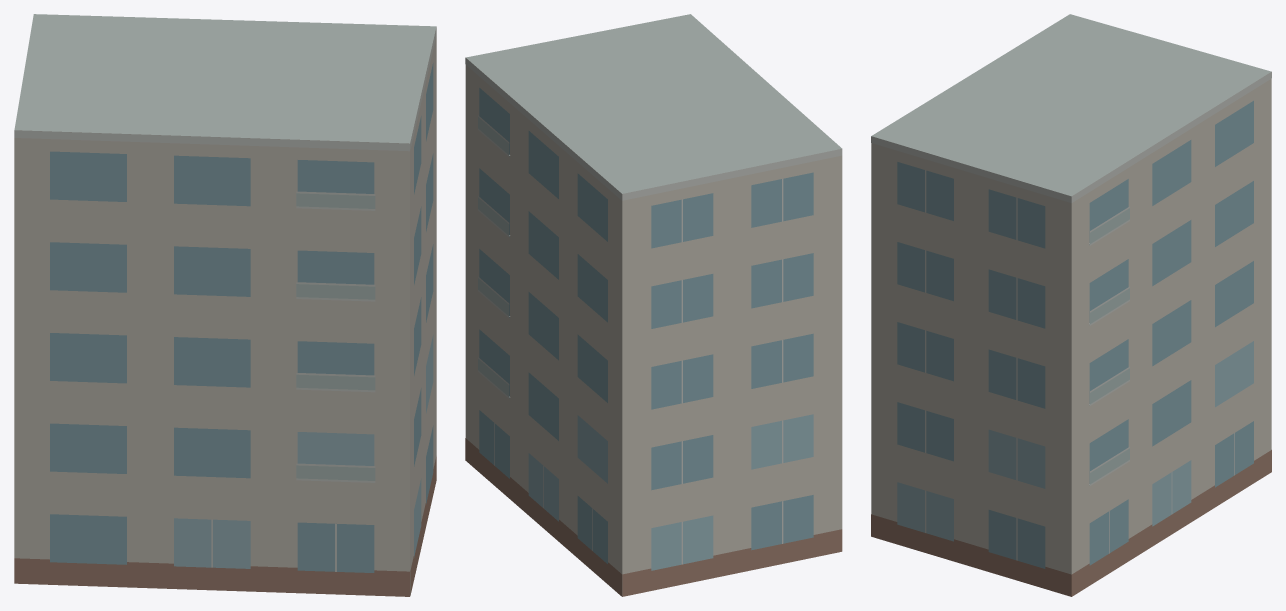
Rendered from survey-upis-32780098.glb.
3 views of the same model, side by side, from view 1: azimuth 30°, elevation 25°; view 2: azimuth 150°, elevation 25°; view 3: azimuth 270°, elevation 25° (orthographic). The views are drawn at different scales.
Parts seen in each view (by area): view 1: survey-upis-32780098.tmp; view 2: survey-upis-32780098.tmp; view 3: survey-upis-32780098.tmp.
Part boxes in pixels (x1,y1,x2,y2): survey-upis-32780098.tmp: (14, 14, 436, 596); survey-upis-32780098.tmp: (465, 14, 842, 596); survey-upis-32780098.tmp: (871, 14, 1271, 596).
Bounding box in the file's own units: 13.97 × 14.3 × 12.97.
